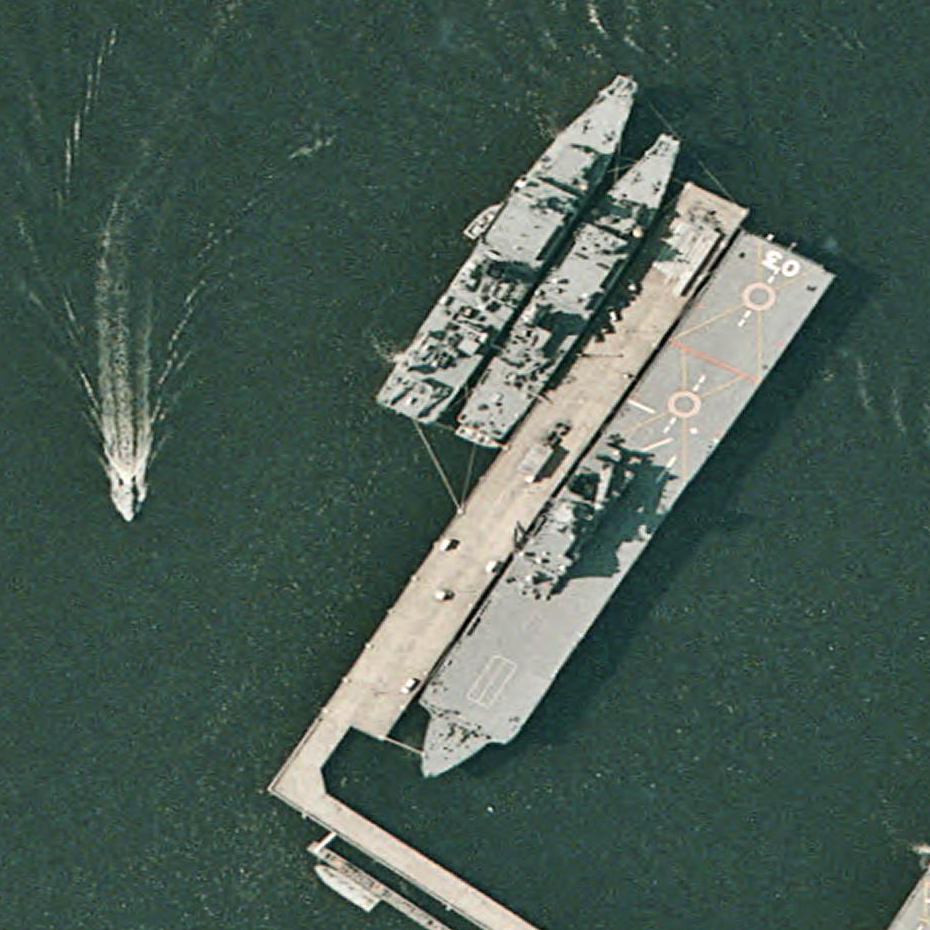Dock: (284, 173, 748, 797)
Motorboat: (111, 456, 149, 523), (461, 194, 505, 244)
Osumi LL: (380, 217, 836, 805)
Patrol: (378, 58, 656, 442), (444, 117, 694, 463)
